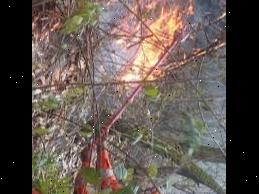fire: (96, 0, 194, 89)
